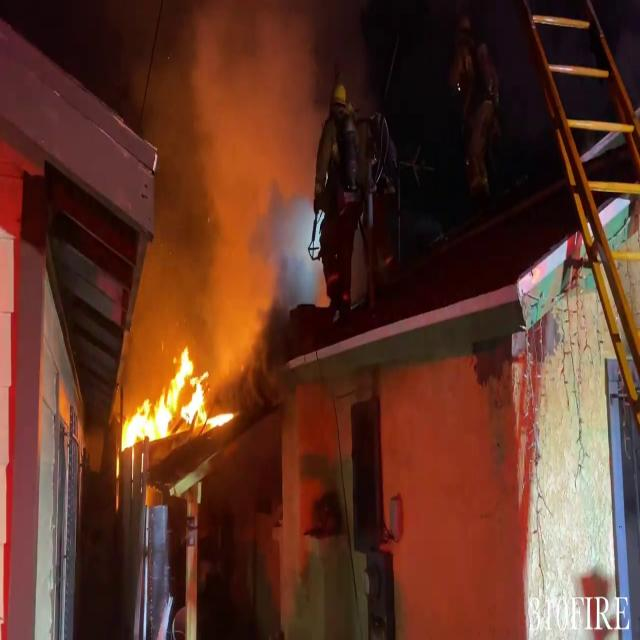Fire: (118, 342, 230, 454)
Smoke: (116, 0, 353, 372)
